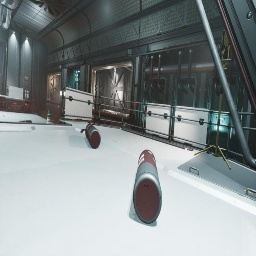0: (47, 109, 50, 124), (61, 112, 64, 120), (65, 118, 68, 120)
EmergencyPhone ,: (255, 128, 256, 134), (0, 73, 0, 77), (62, 105, 62, 109)
FireAlarm ,: (255, 141, 256, 153), (134, 101, 136, 107)
FireExtinguisher ]: (54, 123, 56, 124)
NitrogenTank ,: (133, 150, 162, 224), (85, 123, 101, 149), (19, 120, 32, 123), (64, 107, 65, 120), (72, 119, 76, 121), (68, 119, 70, 120)
